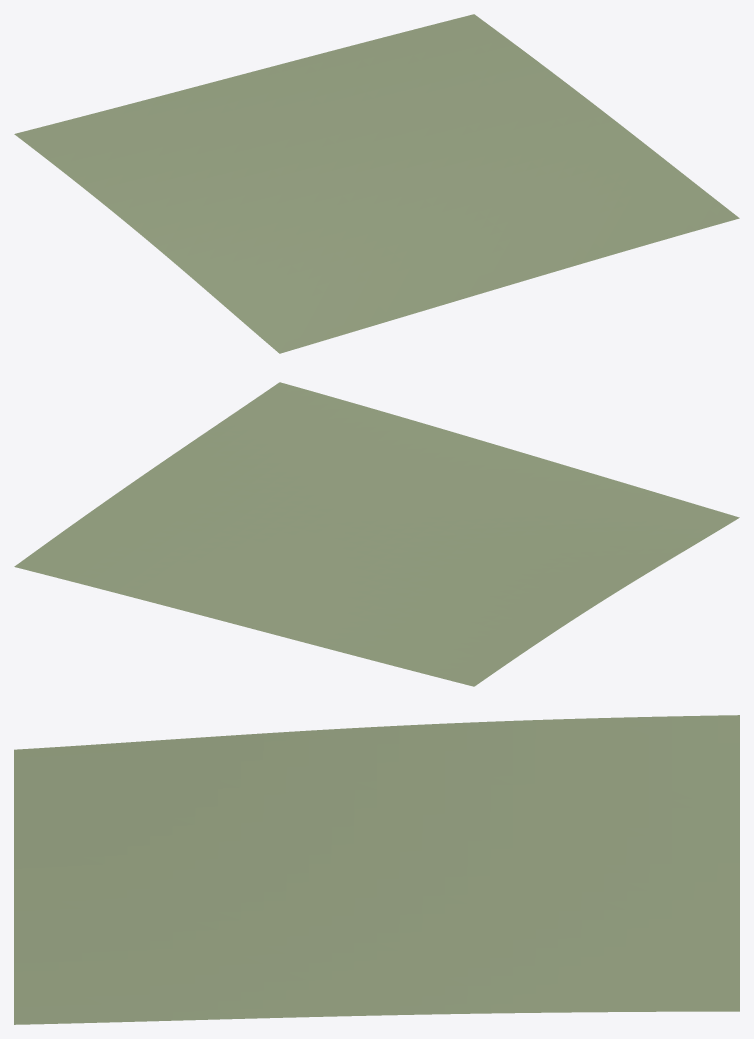
File: desert-26-4.glb
3 renders of one model, top to bottom at view 1: azimuth 30°, elevation 25°; view 2: azimuth 150°, elevation 25°; view 3: azimuth 270°, elevation 25°, orthographic. The views are drawn at different scales.
Visible parts, largest first — view 1: desert-26-4; view 2: desert-26-4; view 3: desert-26-4.
Boxes of the visible parts, x1,y1,x2,y2 form: desert-26-4: [14, 14, 739, 353]; desert-26-4: [14, 382, 739, 686]; desert-26-4: [14, 715, 739, 1024].
Bounding box in the file's own units: 512 × 35.03 × 512.
